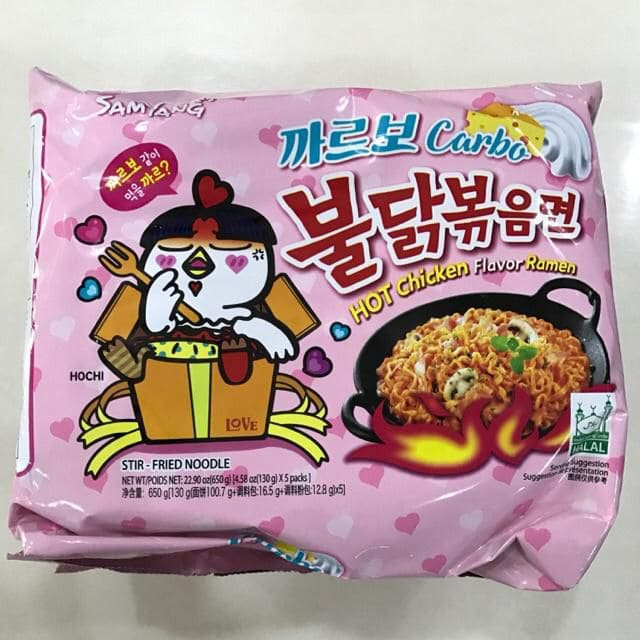Snack: (1, 60, 632, 603)
